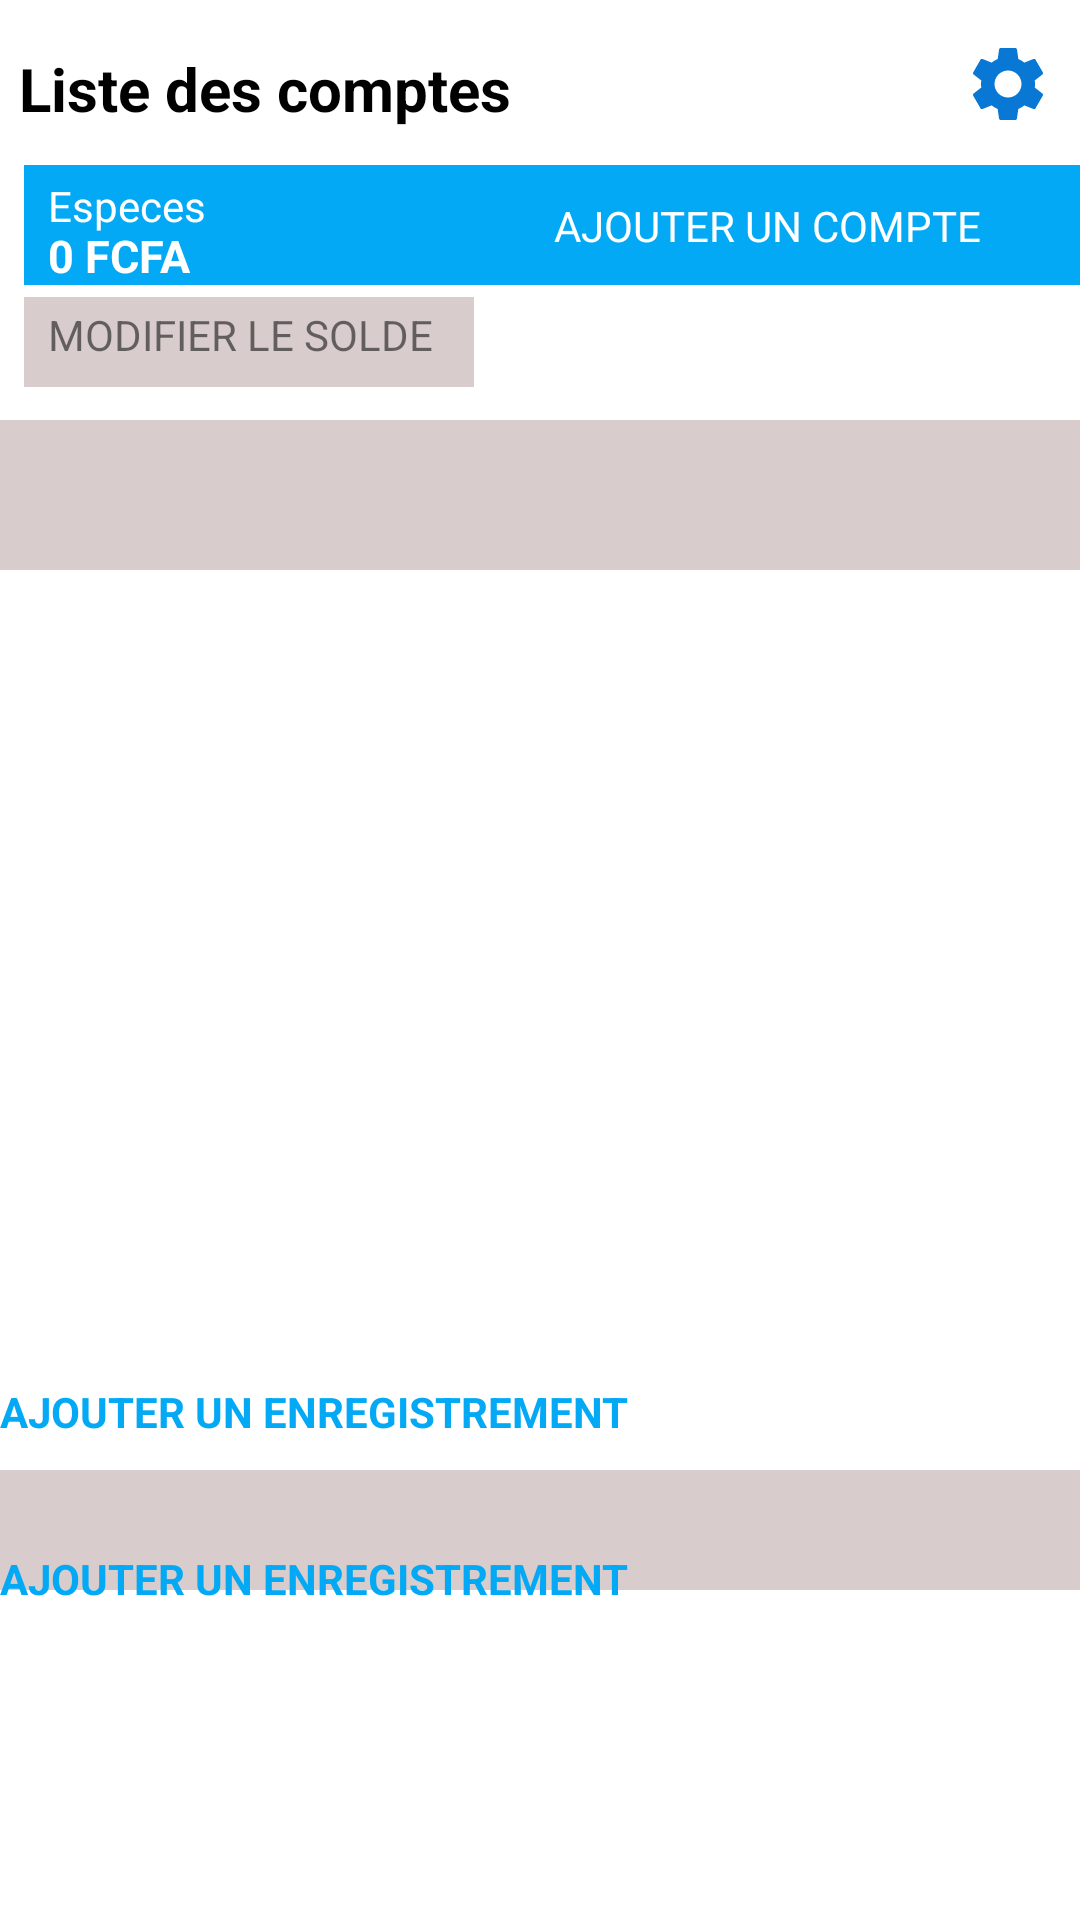

Where icons sit on this 1080*1920 app screen, as (x1, y1, x2, y2):
settings: (973, 48, 1043, 120)
